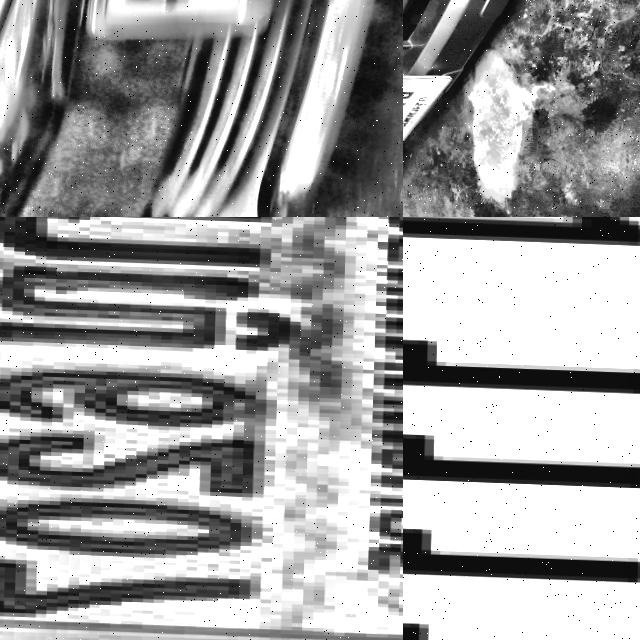license-plate: (0, 217, 403, 640), (403, 217, 640, 640), (403, 66, 457, 172)
